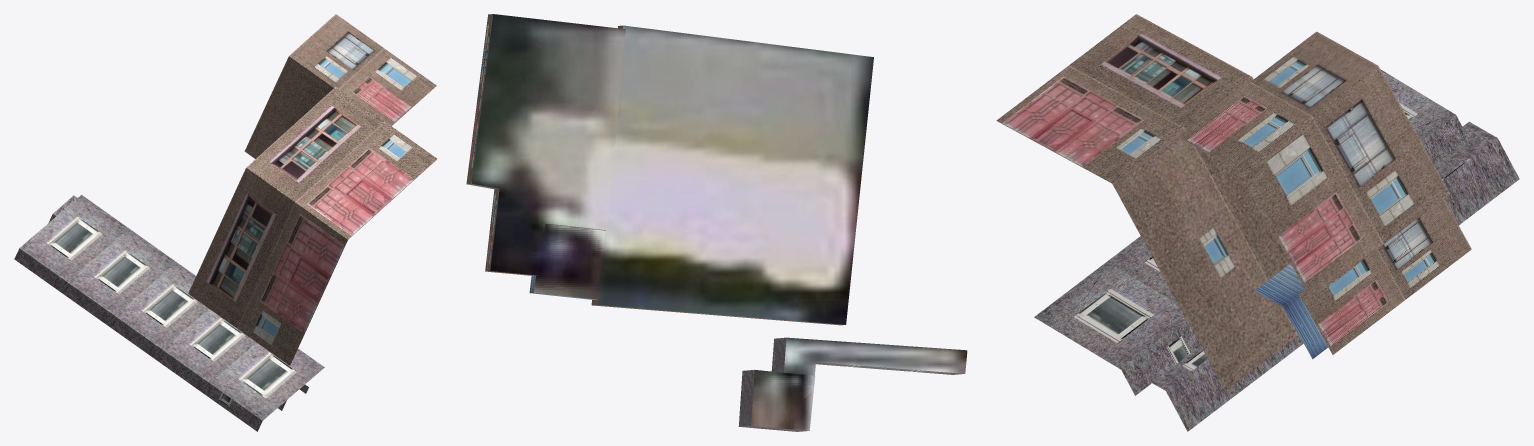
3 renders of one model, left to right at view 1: azimuth 30°, elevation 25°; view 2: azimuth 150°, elevation 25°; view 3: azimuth 270°, elevation 25°, orthographic. The views are drawn at different scales.
Size of the model in its own units: 21.46 by 16.95 by 18.25.
Materials: 18 (18 with a texture image).
